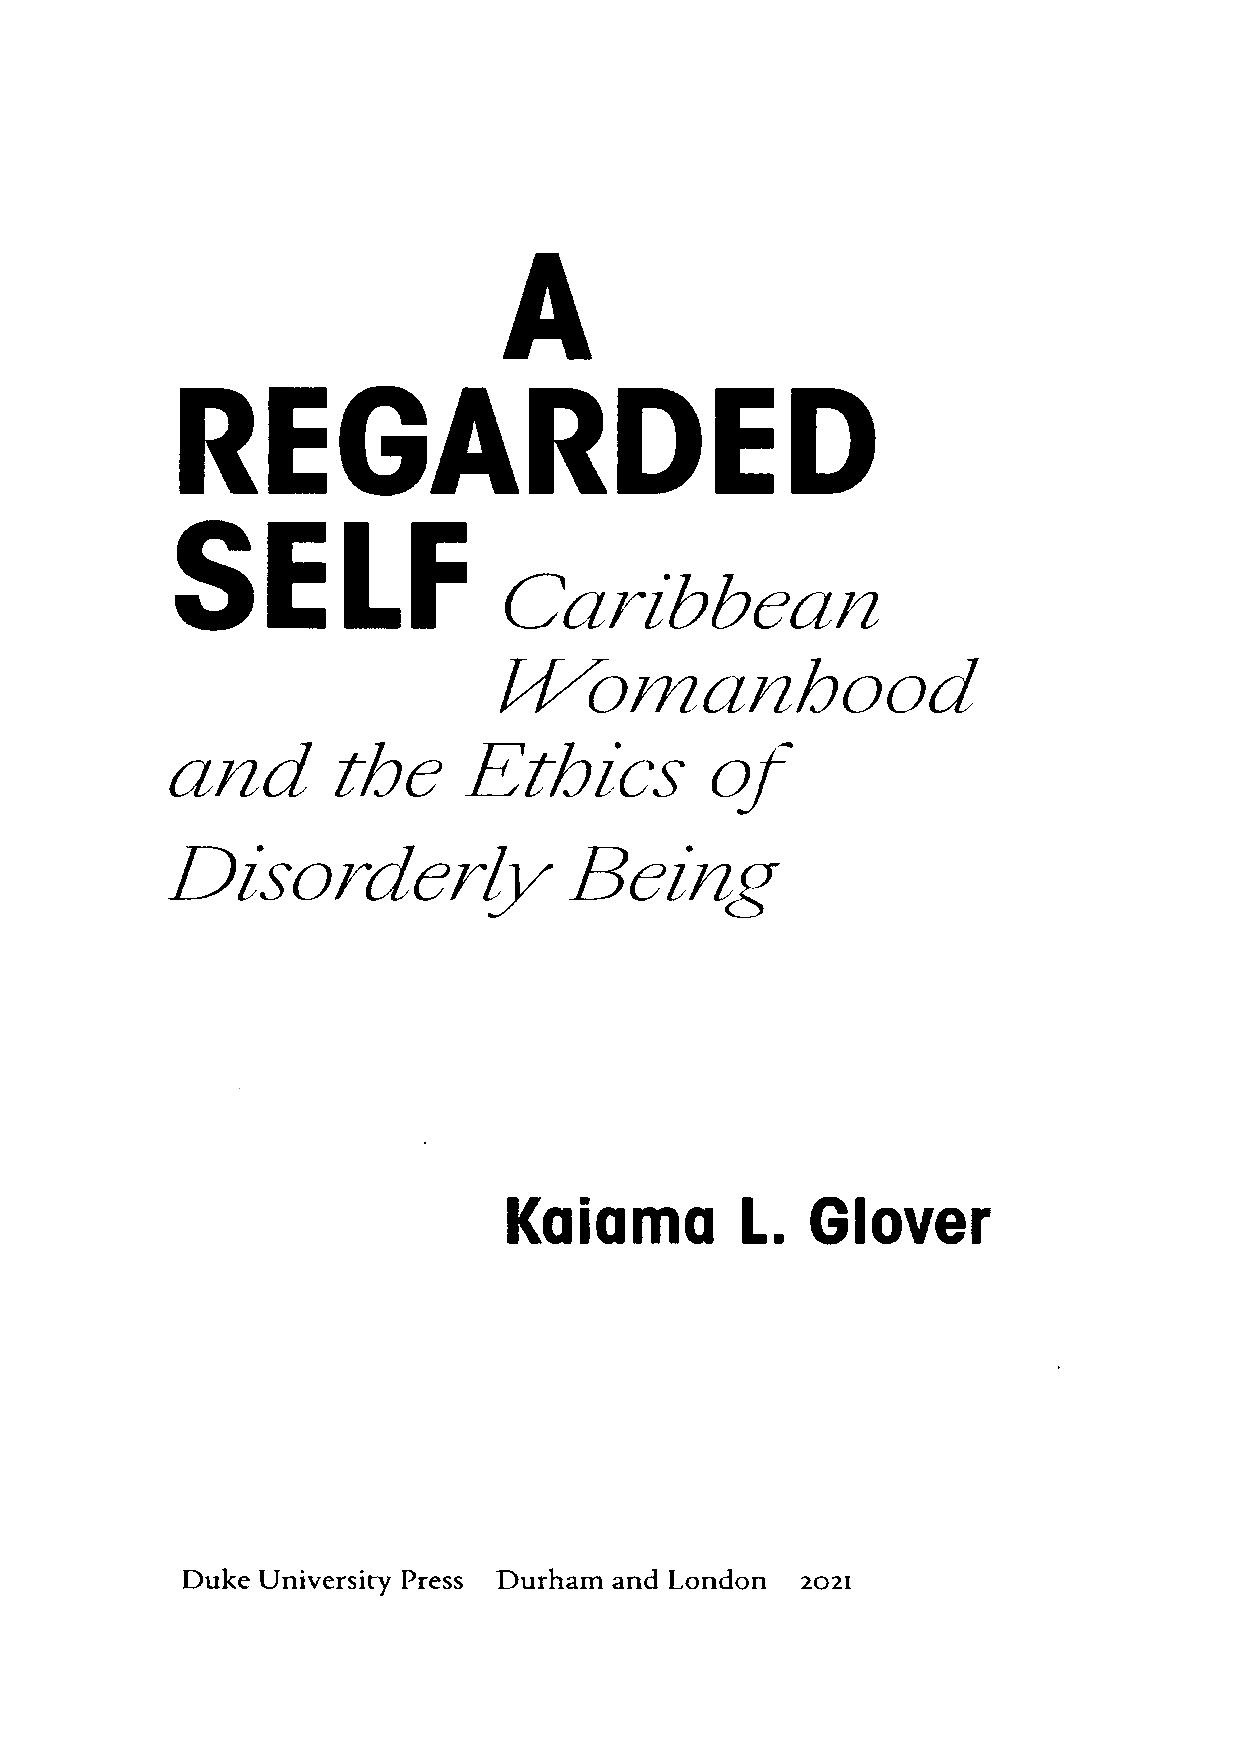author: (502, 1193, 992, 1249)
title: (162, 250, 982, 923)
